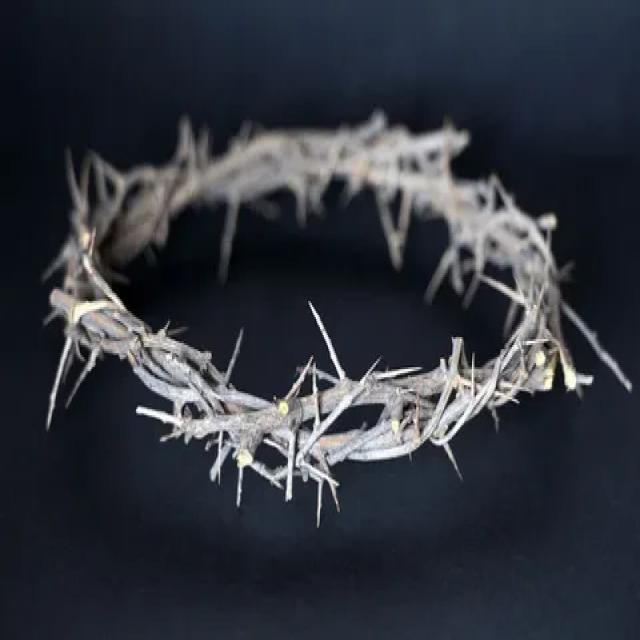crown: (36, 97, 602, 519)
